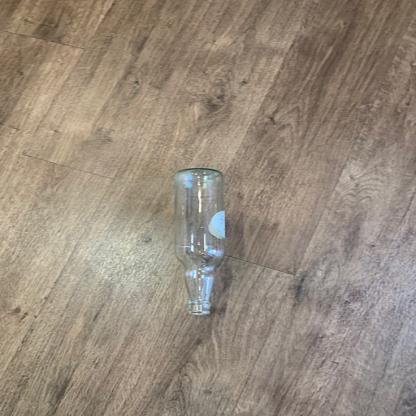trash: (166, 172, 229, 316)
